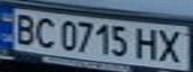0: (54, 17, 78, 52)
1: (90, 20, 112, 56)
5: (109, 22, 133, 58)
7: (75, 19, 96, 54)
B: (9, 11, 39, 46)
C: (30, 15, 57, 48)
H: (133, 25, 163, 61)
X: (154, 26, 190, 64)
